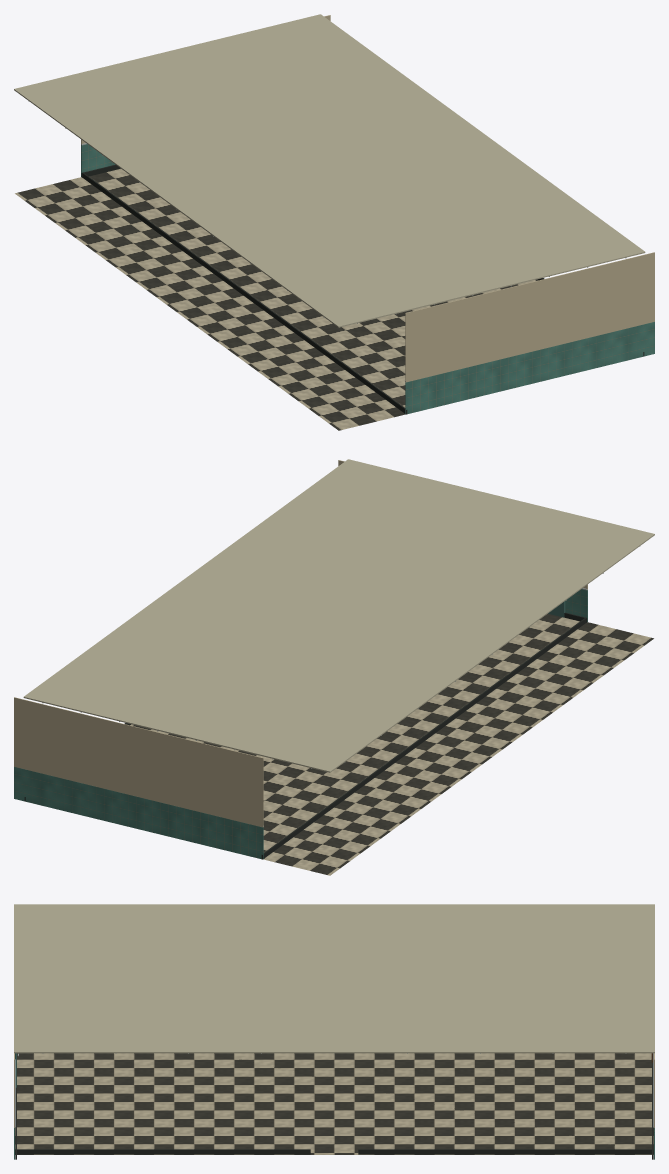
File: SM_Mesa_Interior.glb
3 views of the same model, one above another, from view 1: azimuth 30°, elevation 25°; view 2: azimuth 150°, elevation 25°; view 3: azimuth 270°, elevation 25° (orthographic).
Parts seen in each view (by area): view 1: SM_Mesa_Interior; view 2: SM_Mesa_Interior; view 3: SM_Mesa_Interior.
Boxes of the visible parts, <box> form: SM_Mesa_Interior: <box>14,14,654,430</box>; SM_Mesa_Interior: <box>14,459,654,875</box>; SM_Mesa_Interior: <box>14,904,654,1159</box>.
Size of the model in its own units: 9.9 by 3.12 by 17.6.
Materials: 9 (4 with a texture image).
